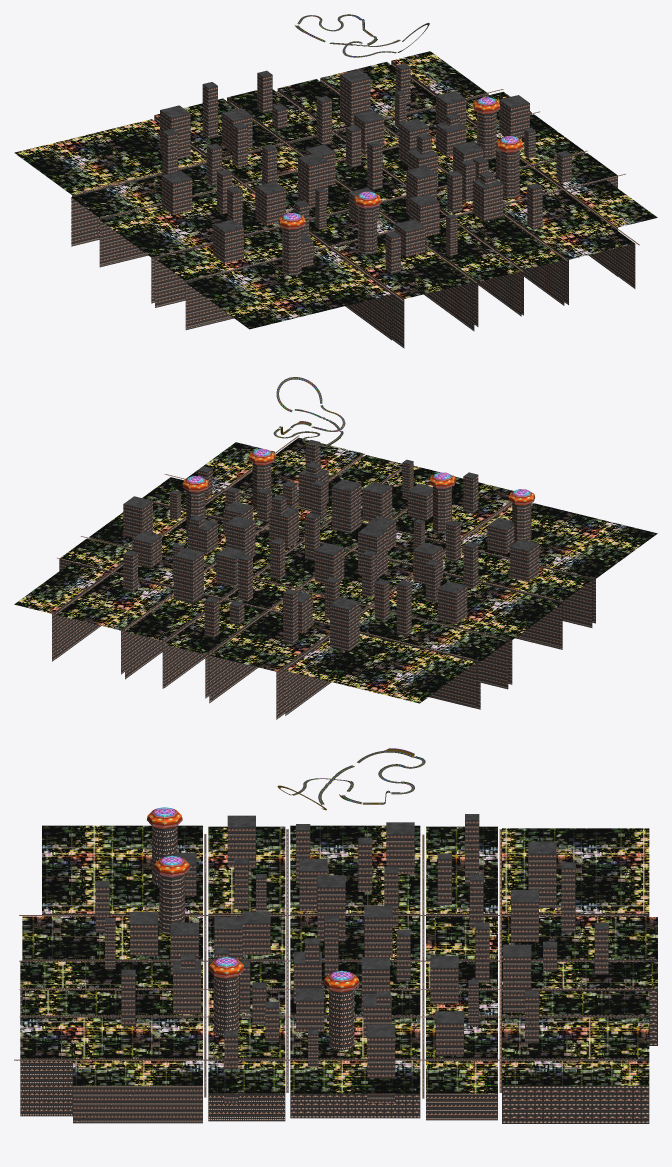
3 views of the same model, one above another, from view 1: azimuth 30°, elevation 25°; view 2: azimuth 150°, elevation 25°; view 3: azimuth 270°, elevation 25° (orthographic). The views are drawn at different scales.
Parts seen in each view (by area): view 1: BG_City.001, BG_City_Buildings.001, BG_City_Roof.001, BG_City_Shroom.001, Road.024; view 2: BG_City.001, BG_City_Buildings.001, BG_City_Roof.001, BG_City_Shroom.001, Road.024; view 3: BG_City.001, BG_City_Buildings.001, BG_City_Roof.001, BG_City_Shroom.001, Road.024.
Part boxes in pixels (box(x1,y1,x2,y2)): BG_City.001: box(14, 51, 657, 329); BG_City_Buildings.001: box(71, 61, 639, 348); BG_City_Roof.001: box(160, 63, 571, 242); BG_City_Shroom.001: box(278, 97, 523, 229); Road.024: box(296, 14, 429, 57); BG_City.001: box(14, 437, 657, 703); BG_City_Buildings.001: box(52, 435, 595, 719); BG_City_Roof.001: box(123, 440, 538, 609); BG_City_Shroom.001: box(182, 449, 535, 505); Road.024: box(273, 377, 345, 446); BG_City.001: box(20, 825, 657, 1093); BG_City_Buildings.001: box(14, 820, 657, 1123); BG_City_Roof.001: box(95, 814, 608, 1036); BG_City_Shroom.001: box(147, 807, 359, 992); Road.024: box(292, 751, 425, 804).
Size of the model in its own units: 615445 by 285003 by 614165.
15 materials, 15 textured.
